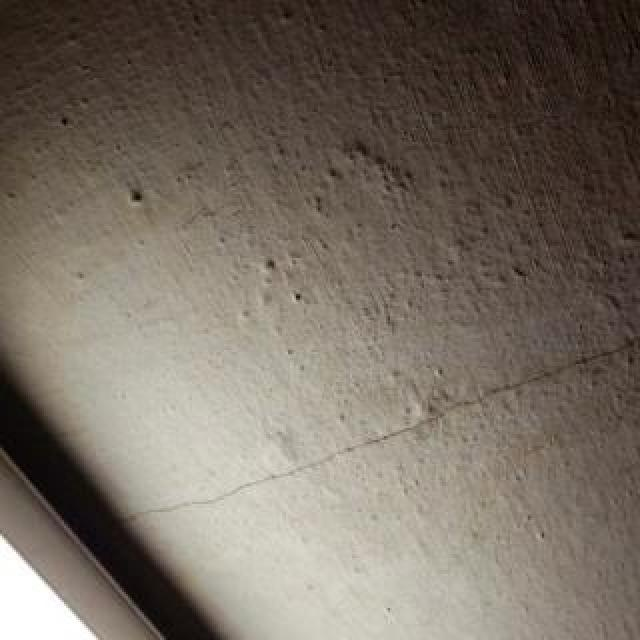fluorescent tube: (0, 354, 640, 640)
